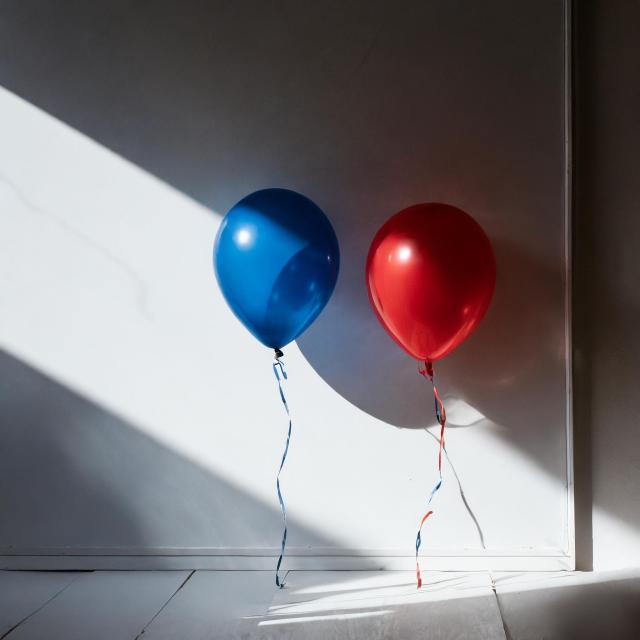blue: (213, 189, 341, 360)
red: (367, 203, 497, 375)
